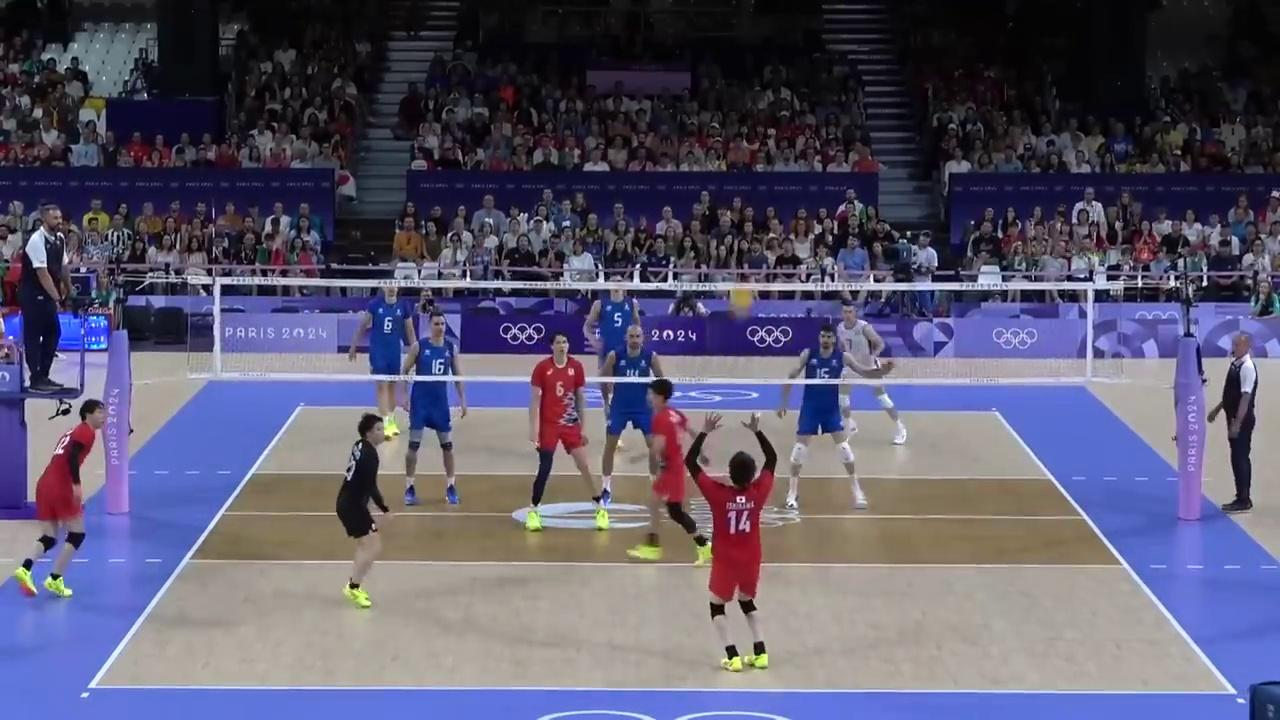ball: (725, 289, 756, 312)
